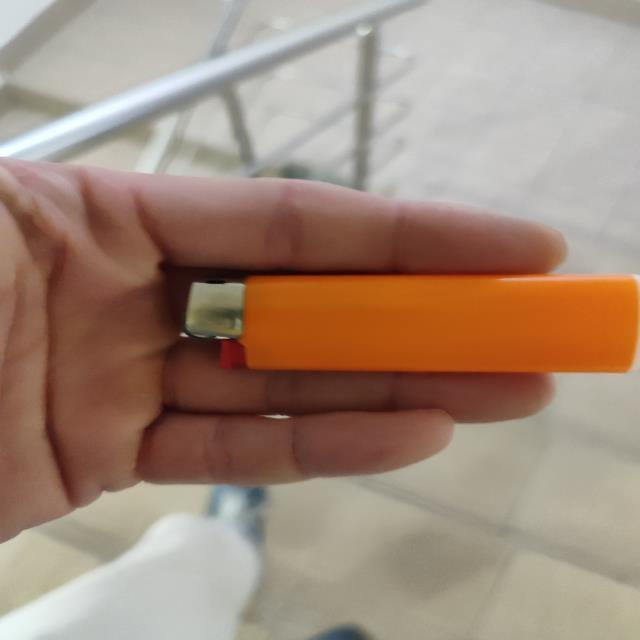lighter: (187, 276, 639, 372)
